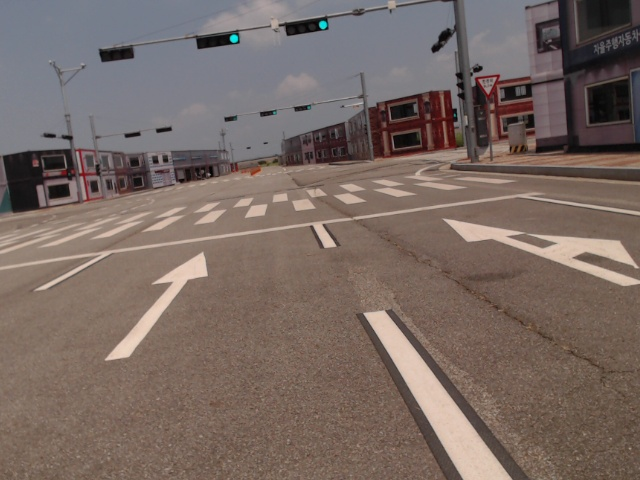straight_green_4: (286, 15, 330, 37), (198, 33, 238, 49), (260, 109, 277, 117), (295, 103, 310, 111)
